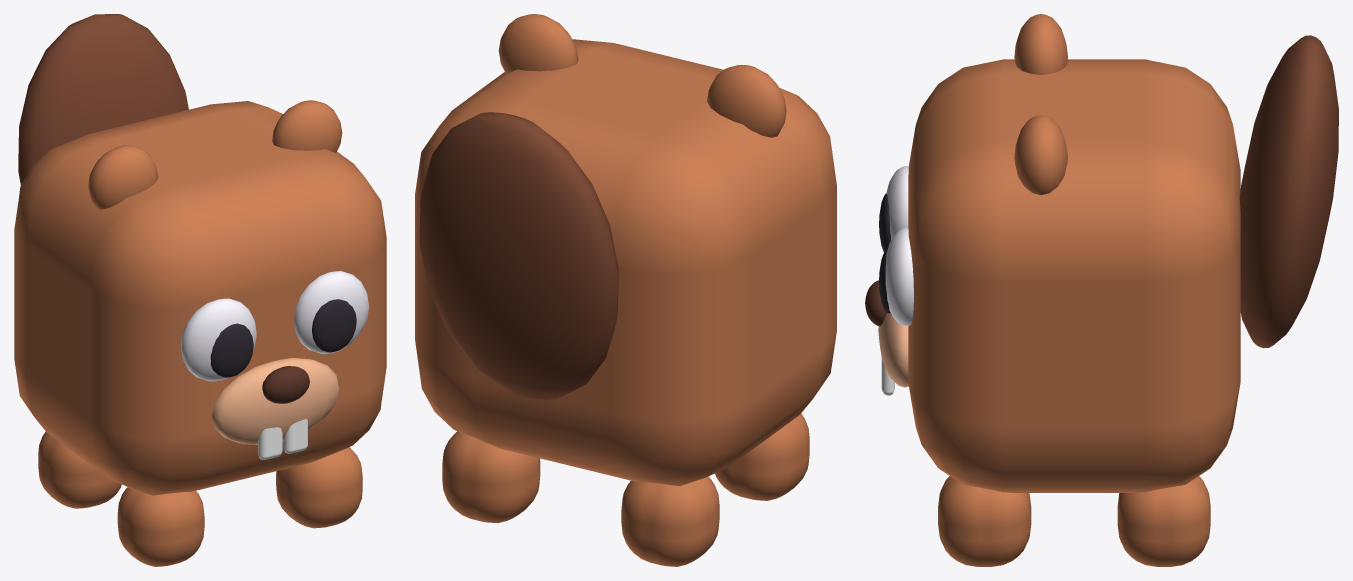
The model's file is pet-beaver.glb.
3 renders of one model, left to right at view 1: azimuth 30°, elevation 25°; view 2: azimuth 150°, elevation 25°; view 3: azimuth 270°, elevation 25°, orthographic. The views are drawn at different scales.
Visible parts, largest first — view 1: body, paddle_tail, muzzle, foot_L_front, foot_R_front, foot_L_back, eye_white_-1, ear_-1, eye_white_1, ear_1, pupil_1, pupil_-1 (+2 smaller); view 2: body, paddle_tail, foot_L_back, foot_R_back, foot_L_front, ear_-1, ear_1; view 3: body, paddle_tail, foot_R_back, foot_R_front, ear_1, ear_-1, eye_white_1, muzzle, eye_white_-1, nose.
Part boxes in pixels (<box>): body: <box>14,101,386,495</box>; paddle_tail: <box>18,14,188,184</box>; muzzle: <box>212,358,339,444</box>; foot_L_front: <box>117,487,204,566</box>; foot_R_front: <box>276,447,362,528</box>; foot_L_back: <box>38,431,121,508</box>; eye_white_-1: <box>181,298,256,381</box>; ear_-1: <box>88,145,158,209</box>; eye_white_1: <box>294,270,369,353</box>; ear_1: <box>272,100,342,152</box>; pupil_1: <box>312,299,356,352</box>; pupil_-1: <box>210,323,253,377</box>; body: <box>415,39,836,485</box>; paddle_tail: <box>419,112,618,399</box>; foot_L_back: <box>621,476,719,566</box>; foot_R_back: <box>442,431,540,523</box>; foot_L_front: <box>715,413,809,500</box>; ear_-1: <box>707,64,786,137</box>; ear_1: <box>498,14,578,73</box>; body: <box>908,59,1240,492</box>; paddle_tail: <box>1239,35,1338,348</box>; foot_R_back: <box>1117,476,1210,566</box>; foot_R_front: <box>938,476,1031,566</box>; ear_1: <box>1014,115,1067,195</box>; ear_-1: <box>1014,14,1067,74</box>; eye_white_1: <box>885,227,913,326</box>; muzzle: <box>878,313,908,387</box>; eye_white_-1: <box>886,166,908,240</box>; nose: <box>865,280,886,326</box>.
Bounding box in the file's own units: 1.12 × 1.57 × 1.43.
